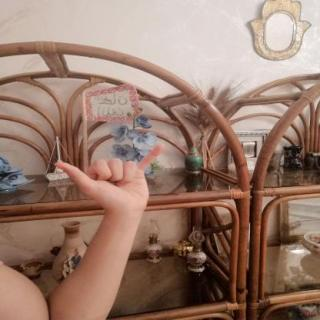YA: (44, 139, 173, 218)
